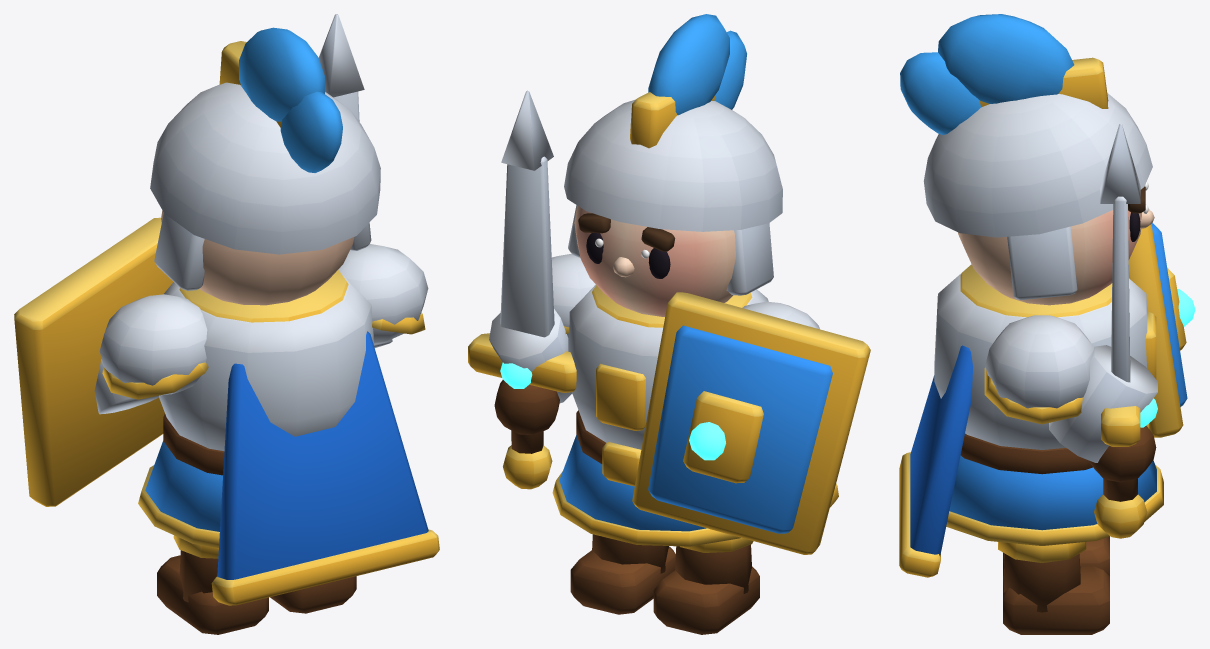
Rendered from unit-infantry.glb.
The picture shows the model from 3 angles, left to right: view 1: azimuth 30°, elevation 25°; view 2: azimuth 150°, elevation 25°; view 3: azimuth 270°, elevation 25°; orthographic projection. The views are drawn at different scales.
Visible parts, largest first — view 1: Anim_Body, Anim_Head, Anim_Cape, Anim_ArmL, Anim_Plume, Anim_LegL, Anim_ArmR, Anim_LegR; view 2: Anim_ArmL, Anim_Head, Anim_Body, Anim_ArmR, Anim_LegL, Anim_Plume, Anim_LegR; view 3: Anim_Body, Anim_Head, Anim_ArmR, Anim_Plume, Anim_Cape, Anim_LegR, Anim_ArmL, Anim_LegL.
Part boxes in pixels (x1,y1,x2,y2): Anim_Body: [99, 244, 428, 547]; Anim_Head: [150, 41, 380, 305]; Anim_Cape: [211, 331, 439, 605]; Anim_ArmL: [14, 217, 173, 506]; Anim_Plume: [239, 27, 342, 172]; Anim_LegL: [157, 535, 268, 634]; Anim_ArmR: [318, 14, 392, 347]; Anim_LegR: [270, 576, 356, 613]; Anim_ArmL: [632, 292, 870, 554]; Anim_Head: [564, 92, 782, 316]; Anim_Body: [551, 254, 819, 546]; Anim_ArmR: [468, 90, 576, 489]; Anim_LegL: [653, 537, 759, 634]; Anim_Plume: [648, 14, 746, 115]; Anim_LegR: [570, 534, 675, 614]; Anim_Body: [934, 264, 1163, 545]; Anim_Head: [923, 57, 1154, 305]; Anim_ArmR: [1049, 124, 1157, 538]; Anim_Plume: [900, 14, 1074, 134]; Anim_Cape: [899, 345, 972, 577]; Anim_LegR: [998, 542, 1109, 634]; Anim_ArmL: [1128, 223, 1195, 437]; Anim_LegL: [1003, 536, 1109, 576].
Size of the model in its own units: 1.27 by 1.81 by 0.8304.
